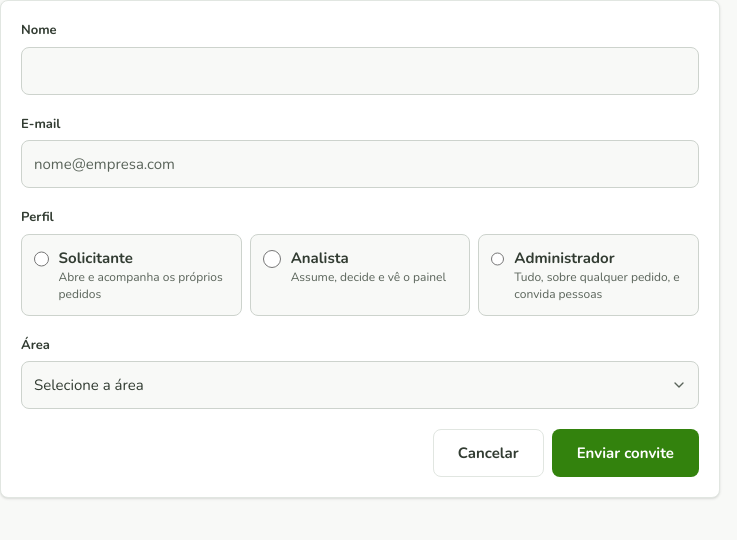
Test: InvitationForm › focuses the e-mail when only the e-mail has a 422
Type "  Maria Souza " into the field labelled "Nome" at point(360, 70), box [21,46,699,94]
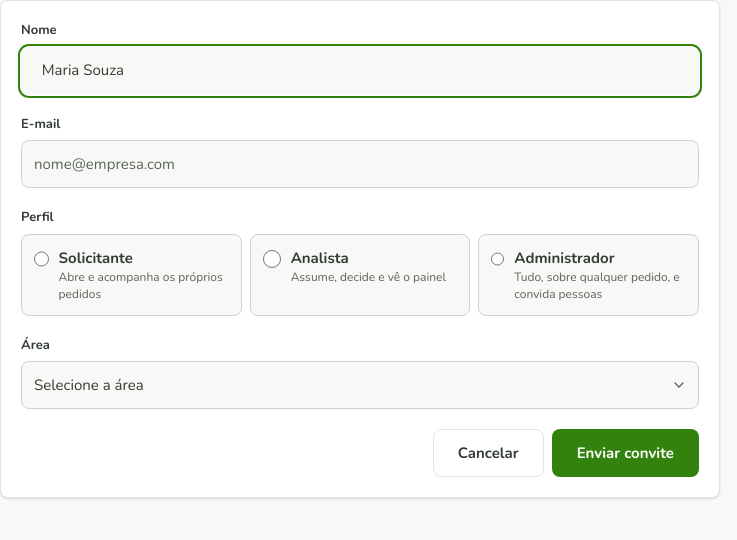
Type " maria@empresa.com " into the field labelled "E-mail" at point(360, 164), box [21,140,699,188]
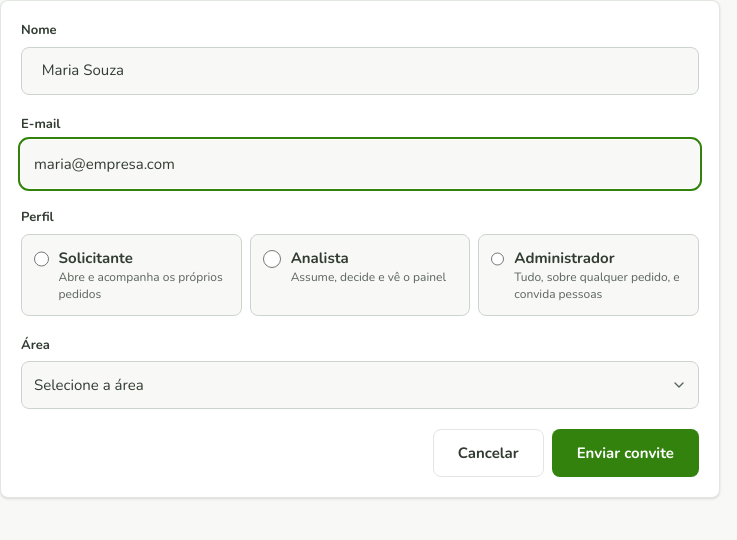
Click the radio button labelled "Analista Assume, decide e vê o painel" at point(272, 258), box [263,250,281,268]
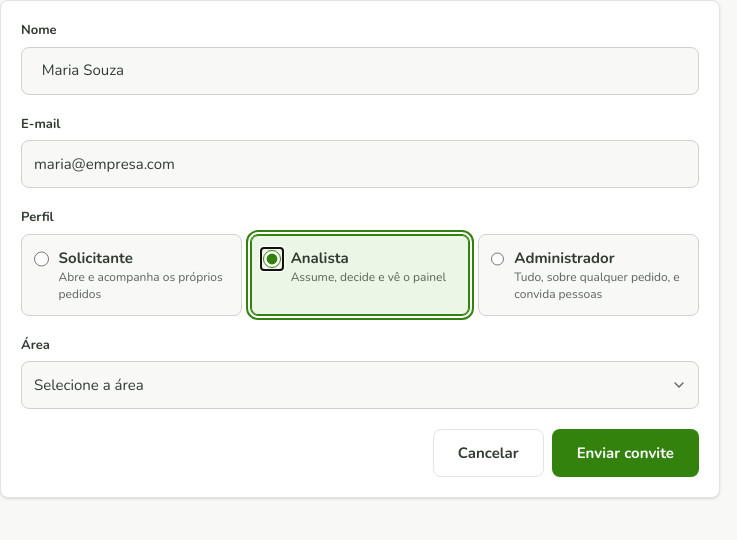
Select "Operações" in the dropdown labelled "Área" at point(360, 385), box [21,361,699,409]
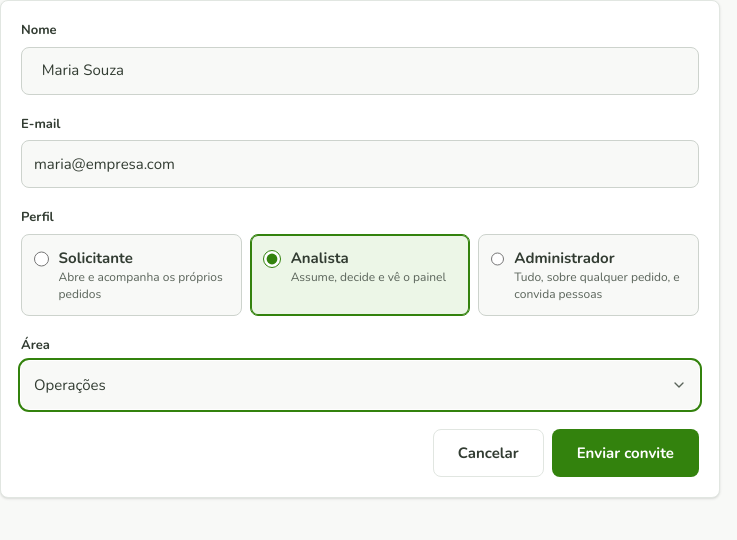
Click the button "Enviar convite" at point(625, 453), box [552,429,699,477]
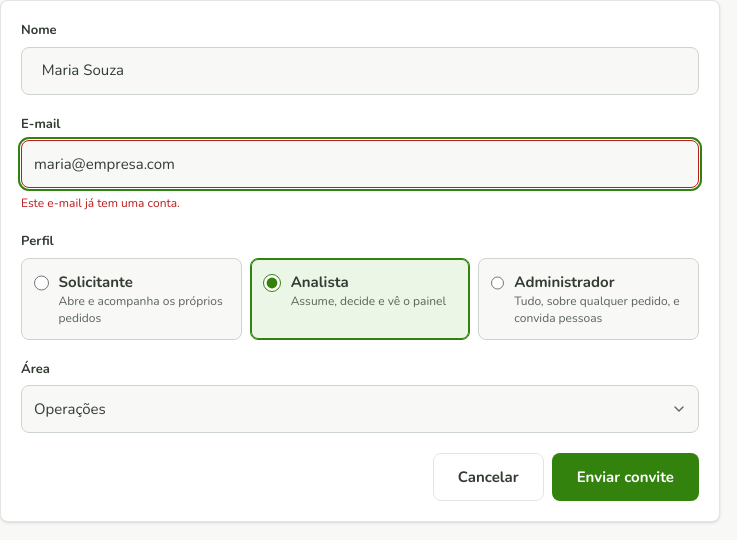
Check: the text "Este e-mail já tem uma conta." is shown, box [21,195,180,211]
